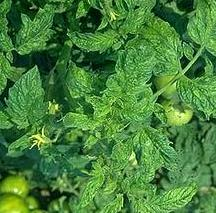Tomato leaf yellow virus: (106, 39, 157, 110), (5, 62, 52, 137), (57, 60, 109, 119), (65, 21, 126, 59), (14, 5, 55, 56), (176, 70, 216, 122), (138, 181, 202, 213), (186, 0, 216, 59)
